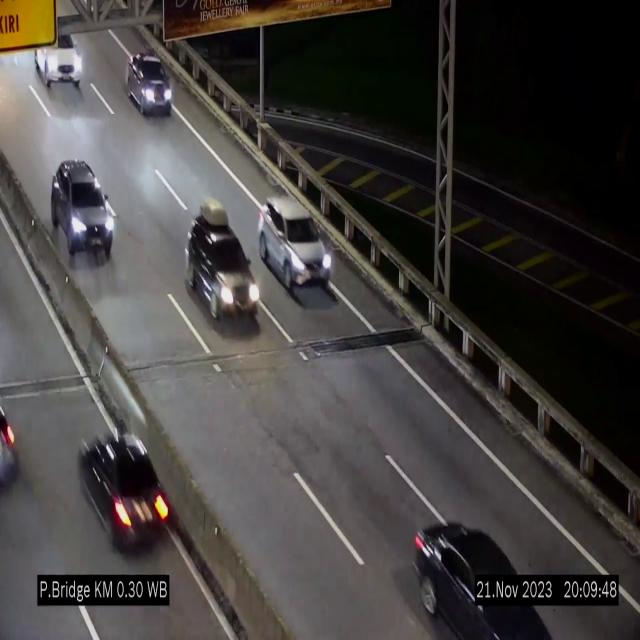Car: (405, 508, 547, 640), (73, 409, 179, 556), (185, 211, 260, 328), (258, 198, 334, 298), (51, 159, 115, 263), (29, 21, 81, 91), (126, 52, 173, 114), (0, 382, 26, 484)
